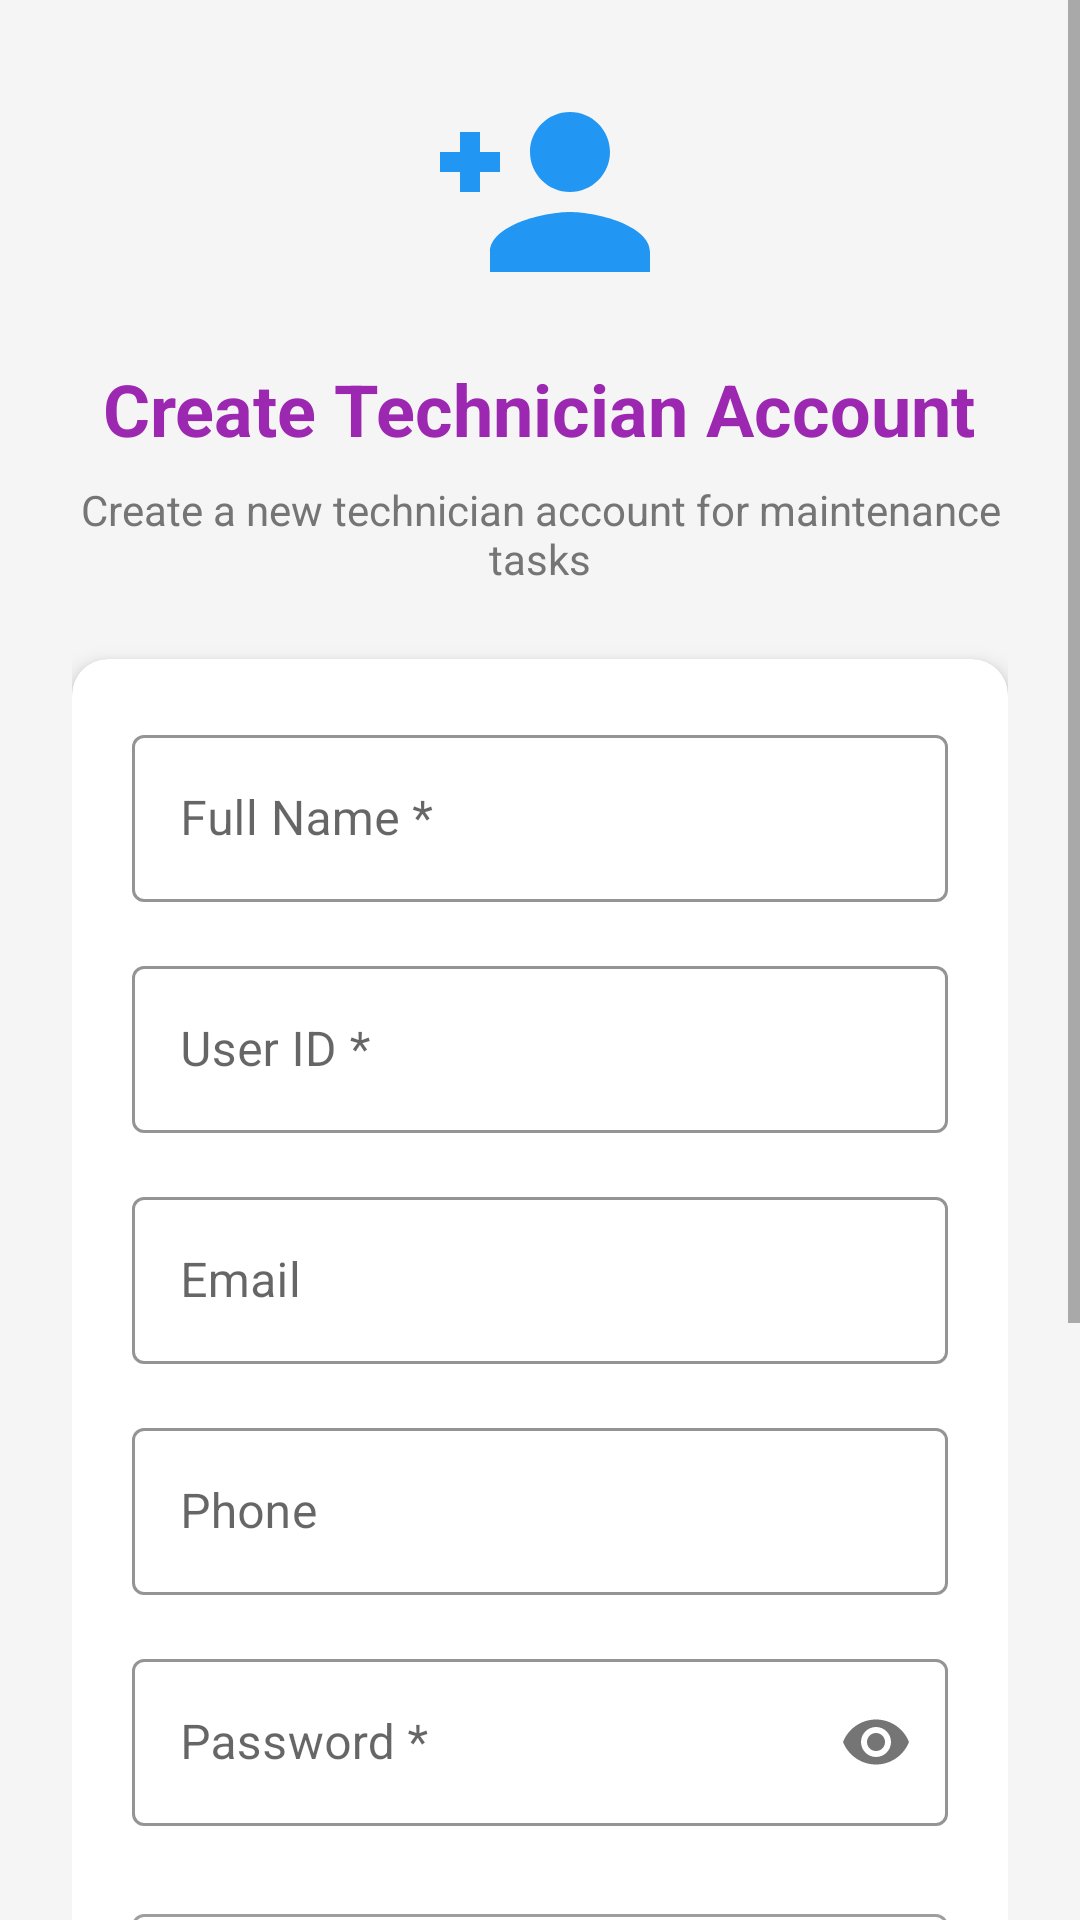

Screen size 1080*1920. Icon name, then its center in pixels as (x=x, y=y):
Add User Icon: (x=545, y=192)
